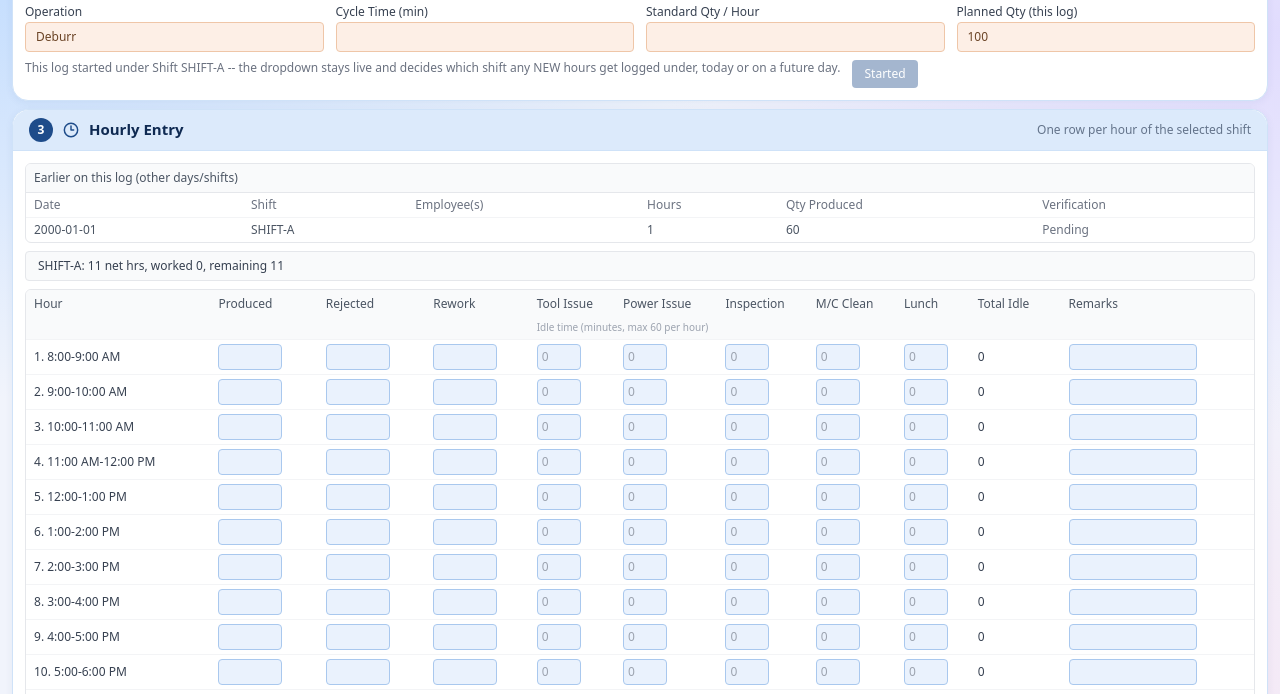
it: Manual Operations: hour qty caps before save › log total over planned qty -> popup with the planned message
This screenshot has width=1280, height=694.
(page scrolled)
Type "50" into the number field named "Hour 1 produced".
click(250, 356); type("50")  # box x1=218 y1=344 x2=282 y2=370
(page scrolled)
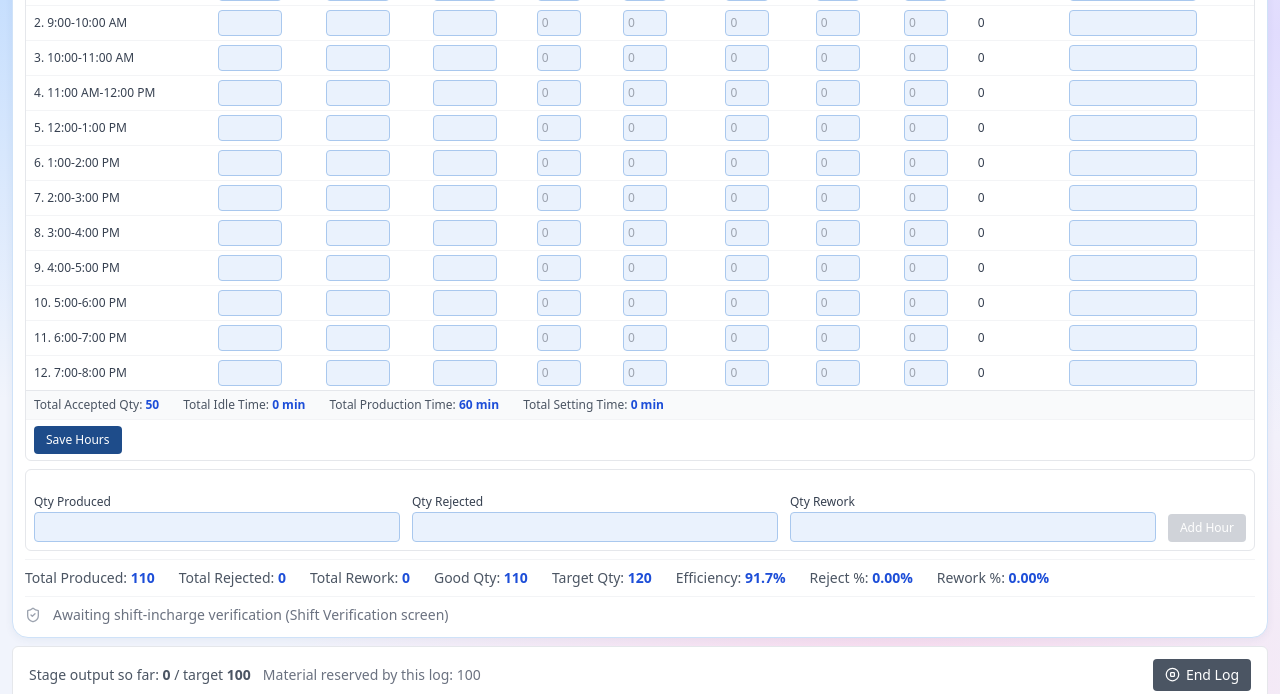
Click the button "Save Hours".
click(78, 440)  # box x1=34 y1=426 x2=122 y2=454
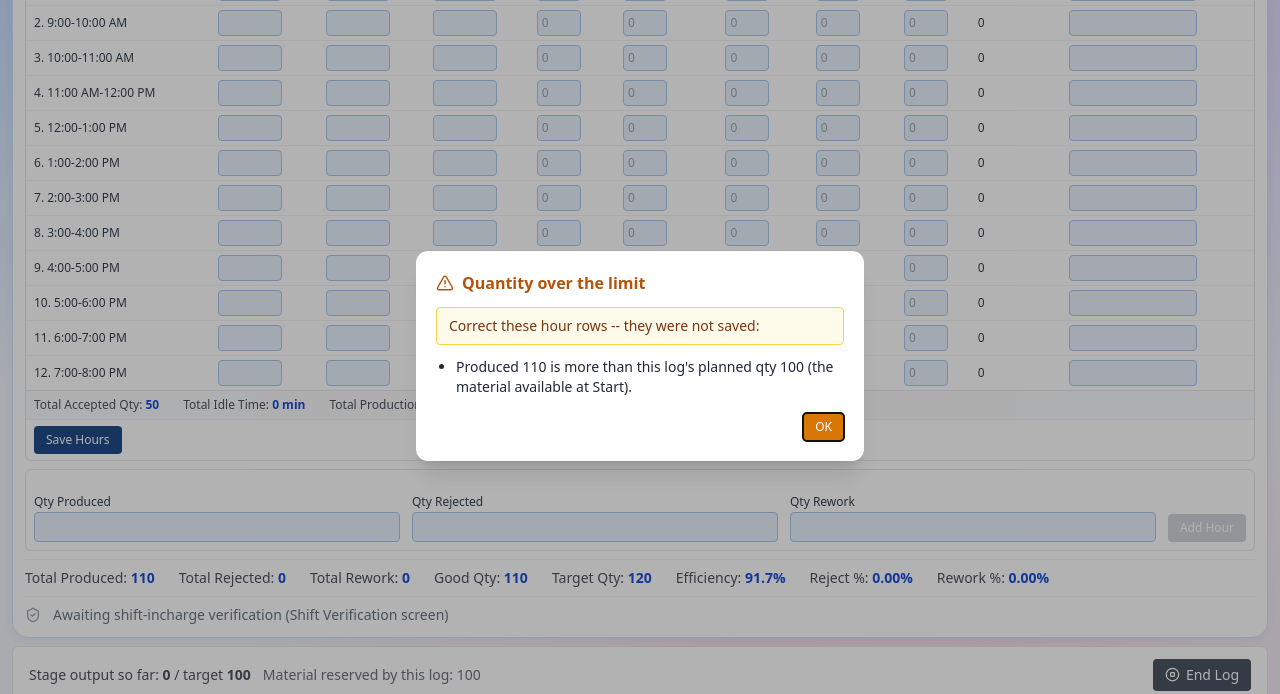
Result: the list with test id "qty-cap-list" shows "Produced 110 is more than this log's planned qty 100" at x1=456 y1=357 x2=834 y2=396
